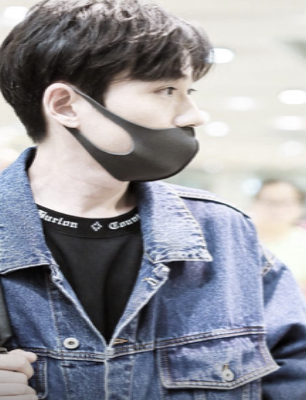mask_weared_incorrect: (86, 72, 205, 182)
